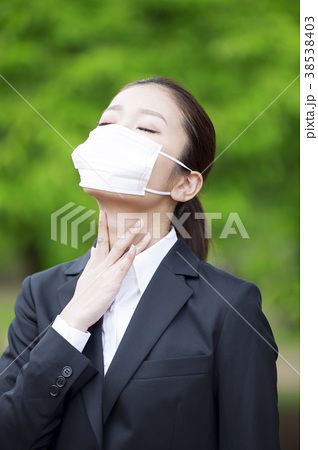mask: (74, 129, 165, 200)
